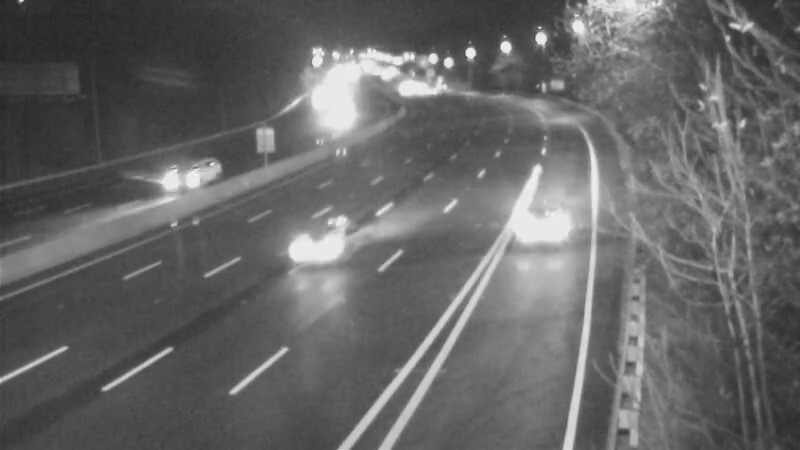vehicle: (490, 175, 570, 255), (271, 209, 351, 289), (128, 139, 208, 219)
